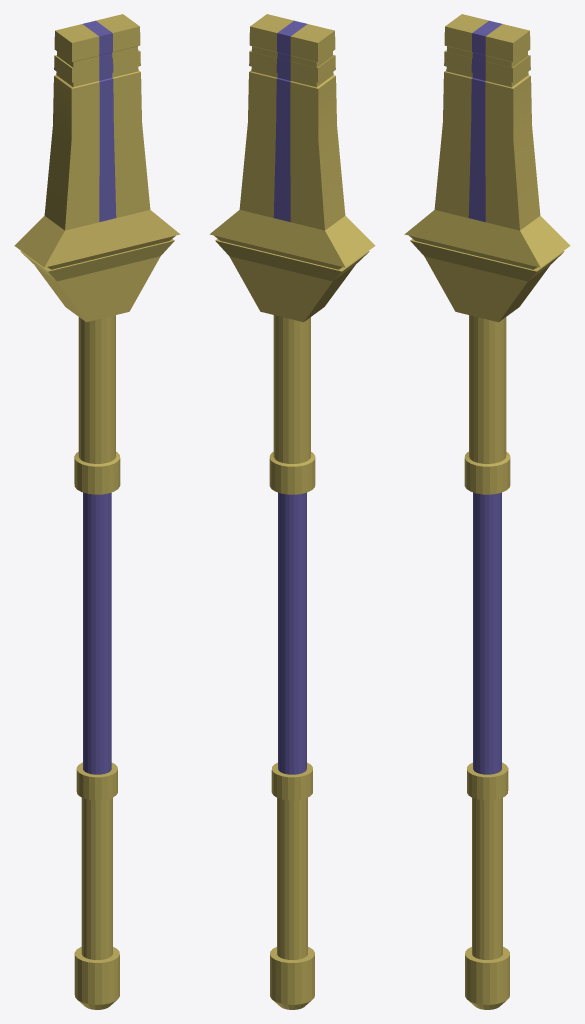
Rendered from Sekhem Scepter.fbx.
The picture shows the model from 3 angles, left to right: view 1: azimuth 30°, elevation 25°; view 2: azimuth 150°, elevation 25°; view 3: azimuth 330°, elevation 25°; orthographic projection.
Parts seen in each view (by area): view 1: pCube1, pCylinder1; view 2: pCube1, pCylinder1; view 3: pCube1, pCylinder1.
Part boxes in pixels (bbox=[...]): pCube1: bbox=[14, 14, 180, 322]; pCylinder1: bbox=[74, 315, 120, 1009]; pCube1: bbox=[209, 14, 375, 322]; pCylinder1: bbox=[269, 315, 315, 1009]; pCube1: bbox=[404, 14, 570, 322]; pCylinder1: bbox=[464, 315, 510, 1009].
Size of the model in its own units: 0.4195 by 2.87 by 0.1596.
